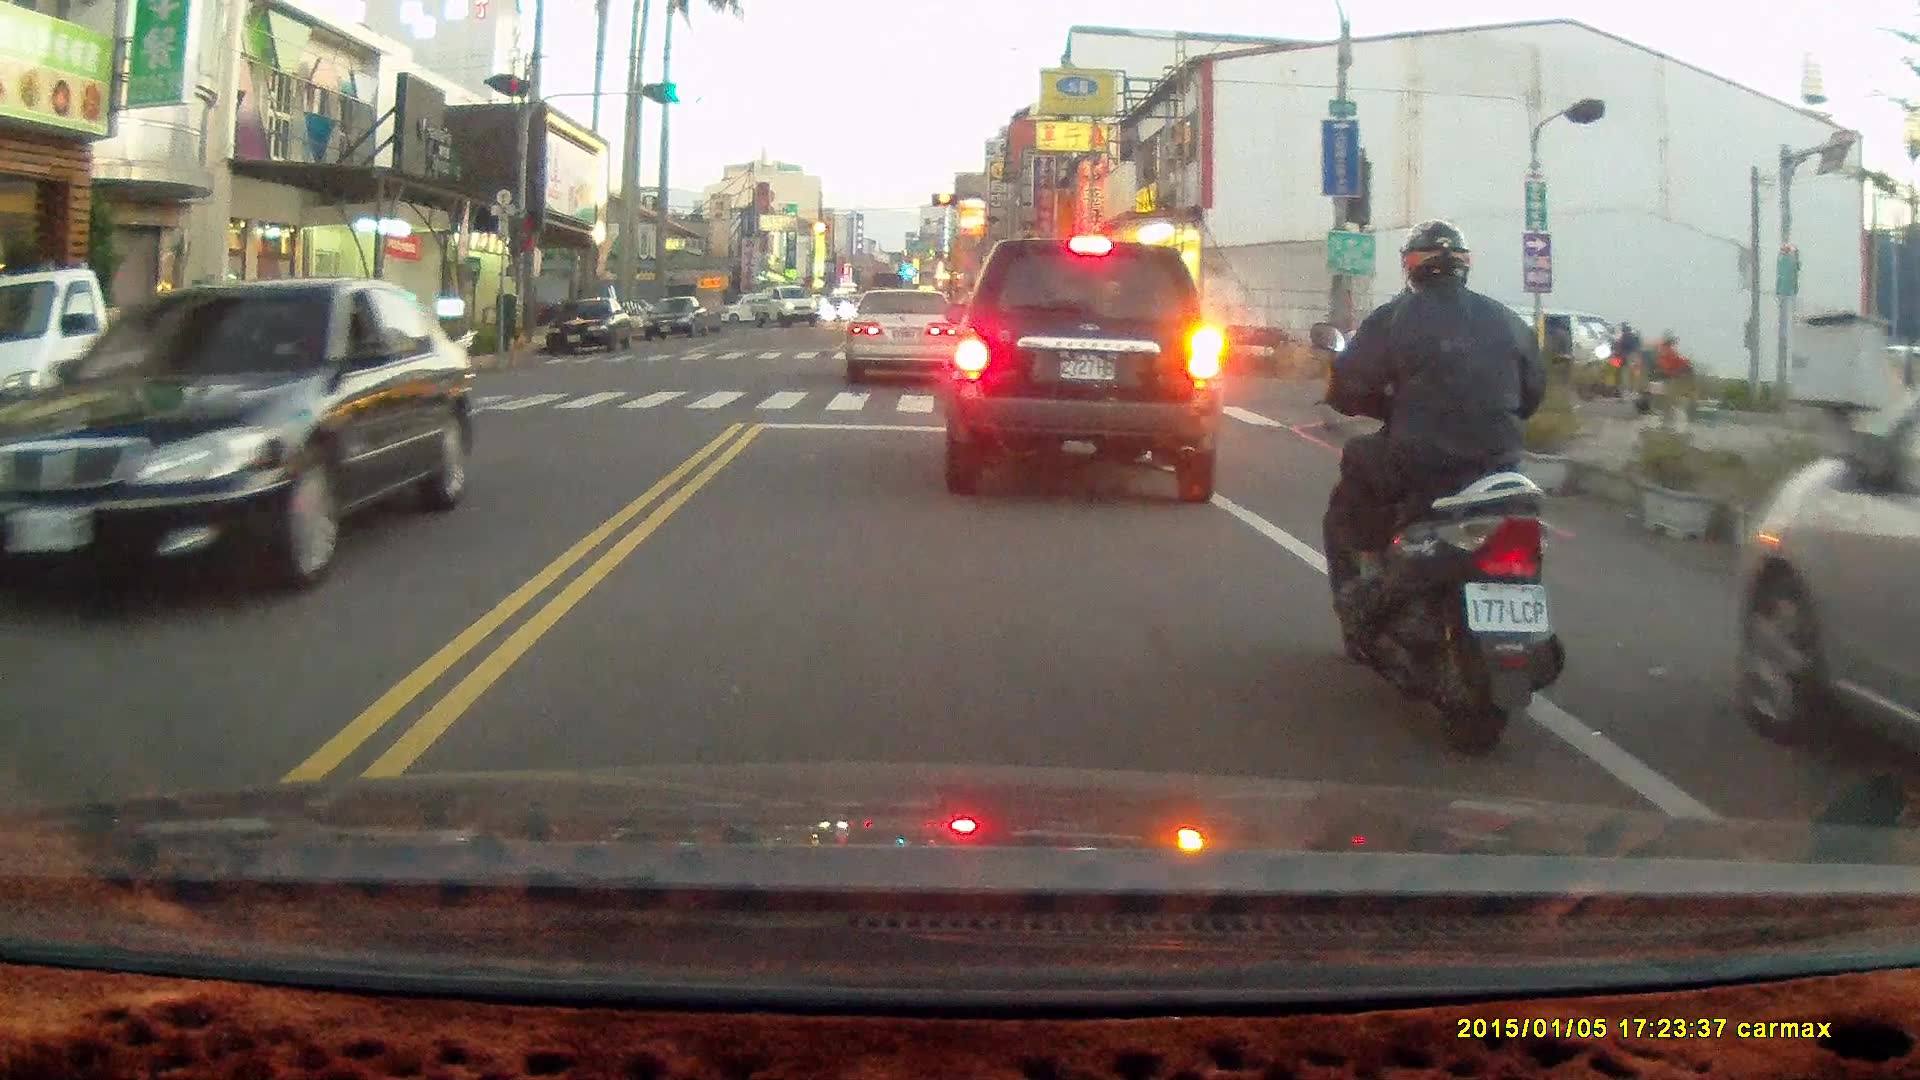pedestrian: (1547, 318, 1570, 384)
rider: (1310, 214, 1569, 754), (1630, 327, 1716, 424), (1586, 316, 1656, 403)
vehicle: (7, 277, 481, 603), (945, 235, 1225, 504), (1735, 396, 1920, 781), (850, 289, 962, 386), (548, 298, 640, 354), (643, 296, 710, 342)
